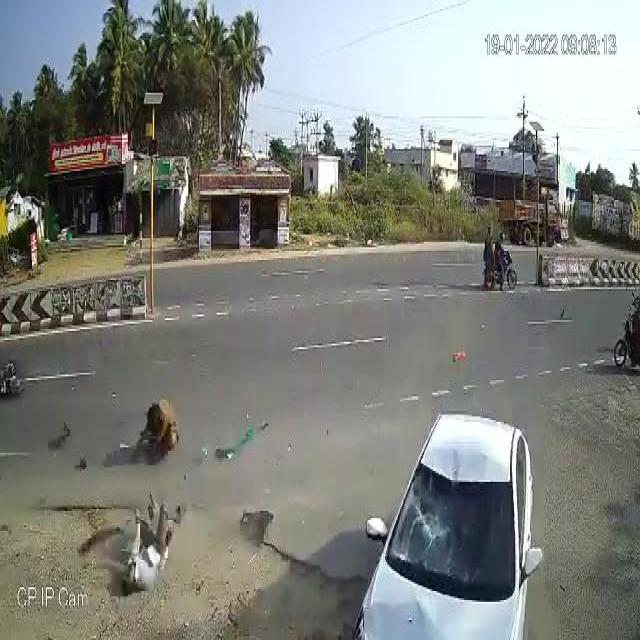accident: (354, 405, 549, 640)
